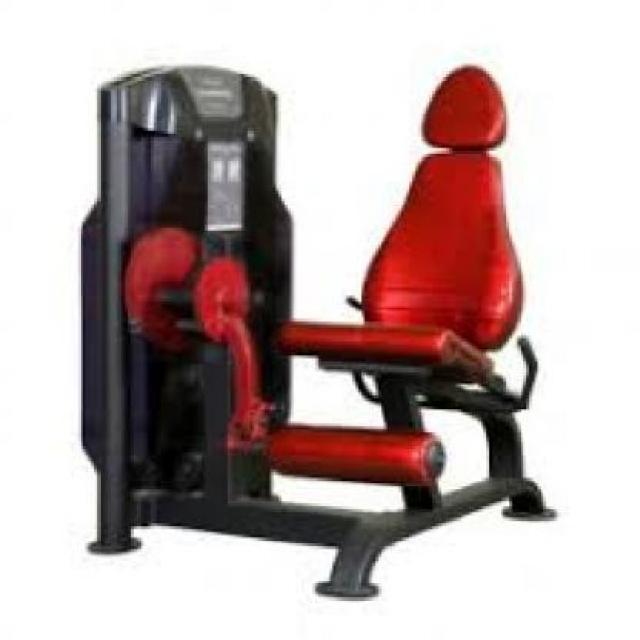leg extension: (55, 37, 571, 625)
